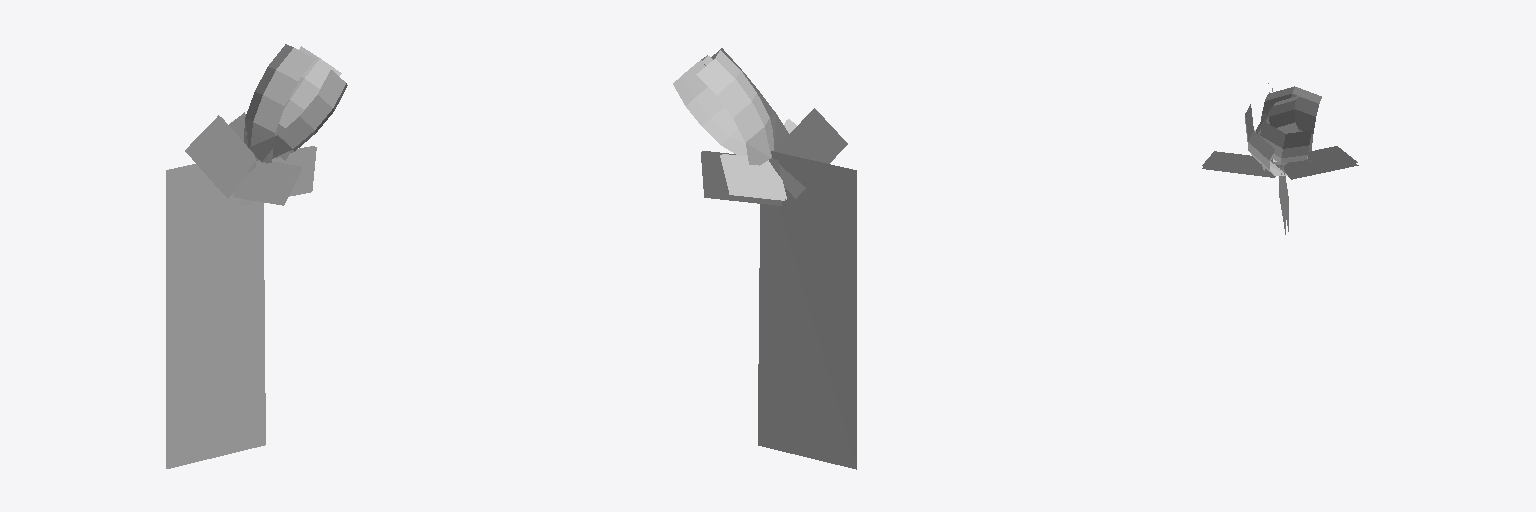
File: flower4.obj
3 views of the same model, side by side, from view 1: azimuth 30°, elevation 25°; view 2: azimuth 150°, elevation 25°; view 3: azimuth 270°, elevation 25° (orthographic).
Visible parts, largest first — view 1: flower1_Plane.013; view 2: flower1_Plane.013; view 3: flower1_Plane.013.
Boxes of the visible parts, <box> form: flower1_Plane.013: <box>166,44,347,468</box>; flower1_Plane.013: <box>673,48,856,469</box>; flower1_Plane.013: <box>1202,83,1358,234</box>.
Size of the model in its own units: 3.65 by 7.48 by 2.78.